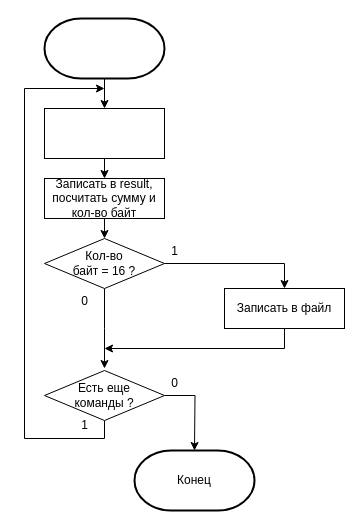
Image size: 362x528. Some labels were removed from this diagram. The shapes that lost their labels are listed below. From the top down, each one's centre as x and y in pixels, then its label:
point 104,48: Начало
point 104,133: Получить 16-чное представление команды
